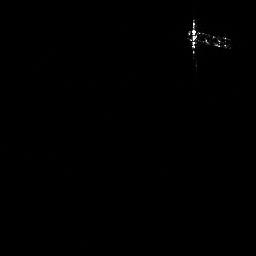ship: (184, 17, 234, 57)
